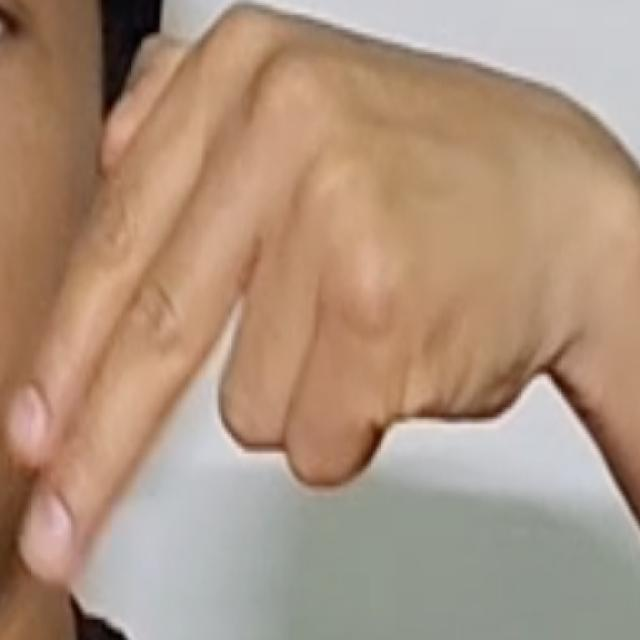N: (4, 2, 589, 606)
